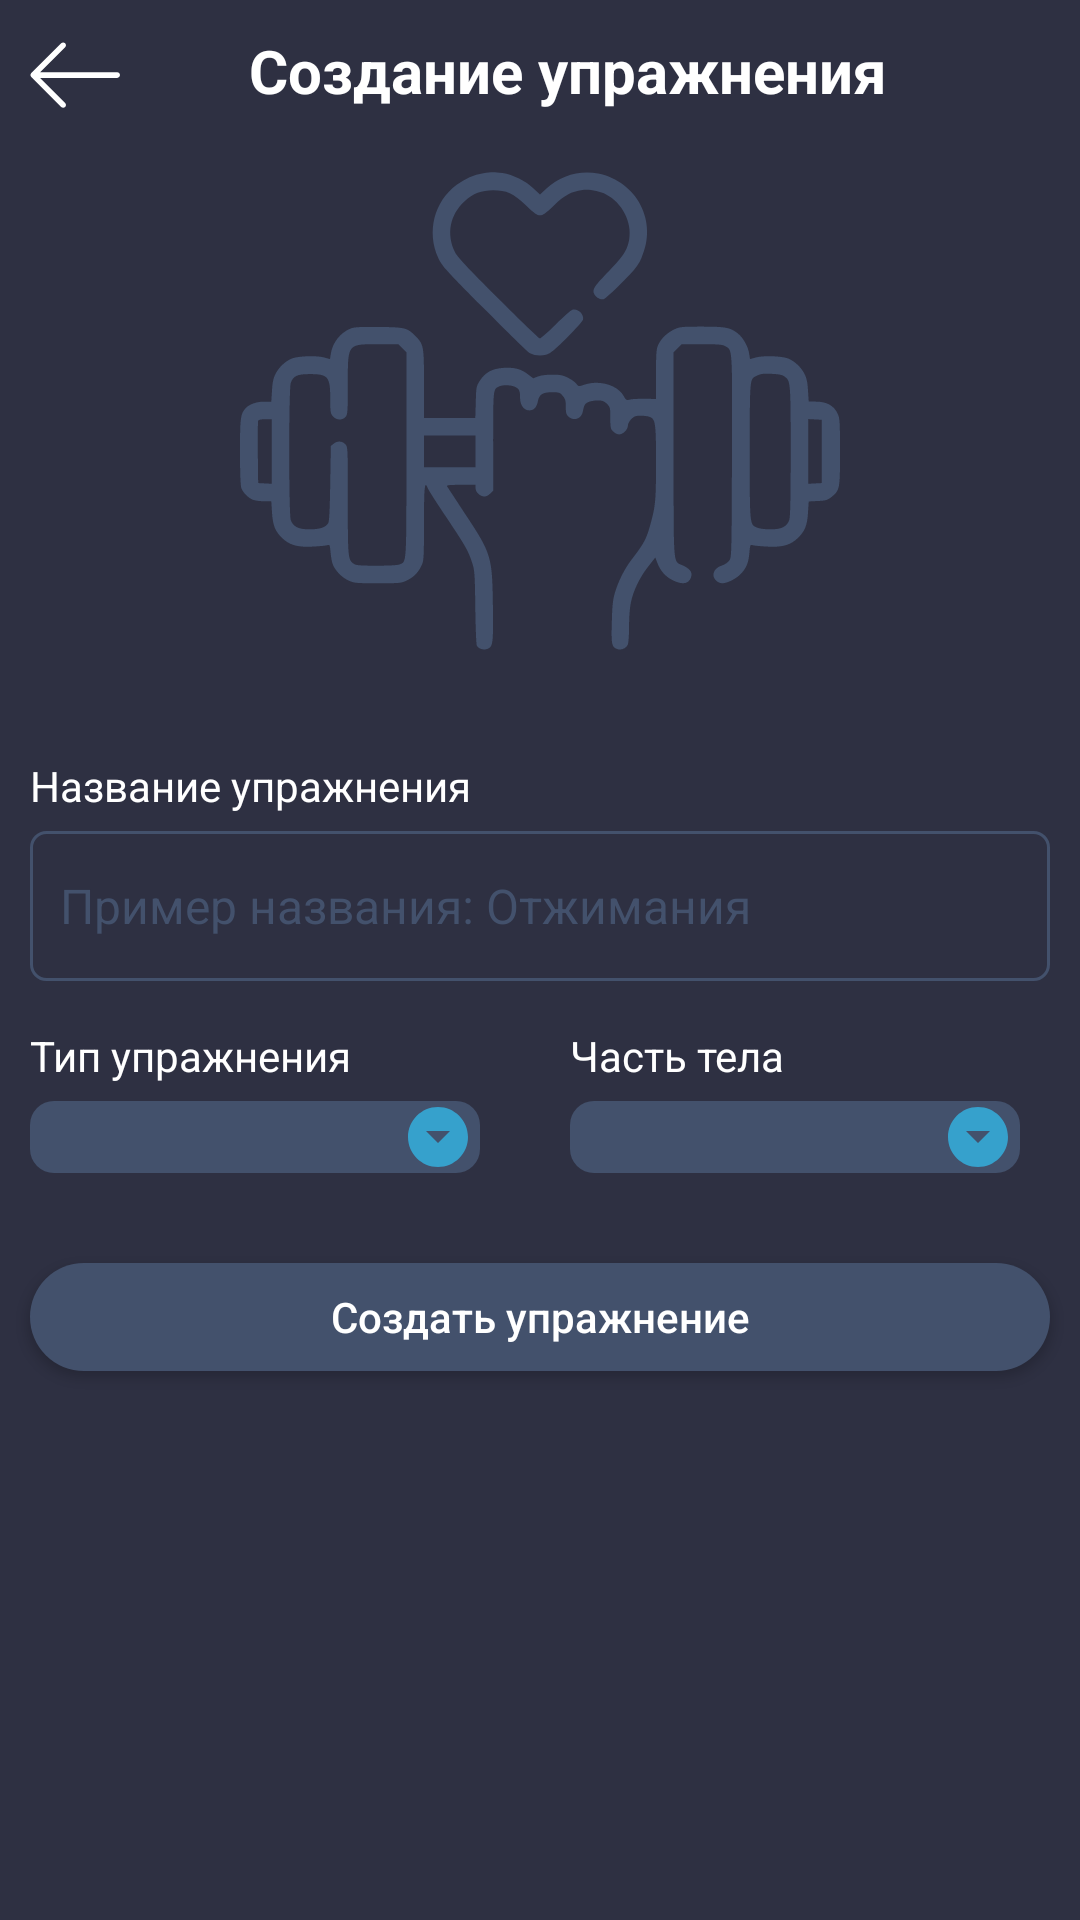

Icon click points for this 1080*1920 phone screenshot, format point (x, y):
back: point (75, 75)
